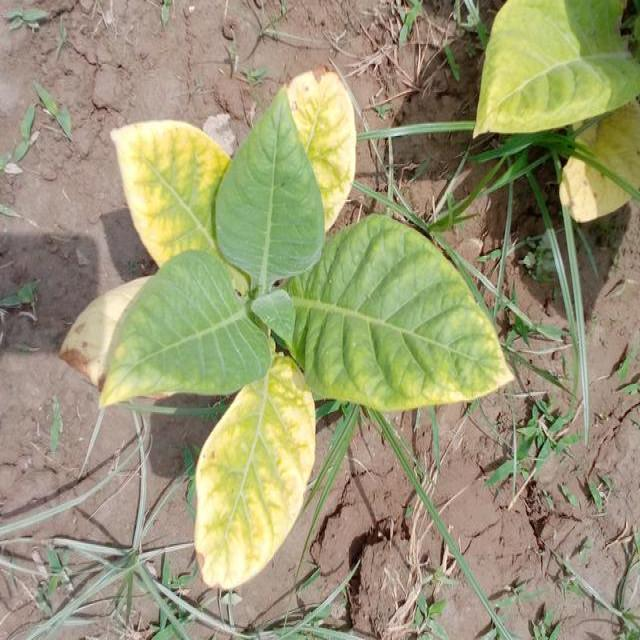crop: (72, 91, 504, 581), (461, 1, 640, 210)
